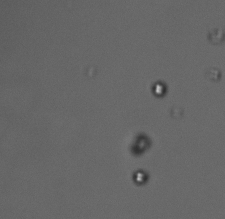Dead Cell: (128, 131, 151, 156)
Living Cell: (150, 80, 166, 96), (133, 169, 148, 185)
